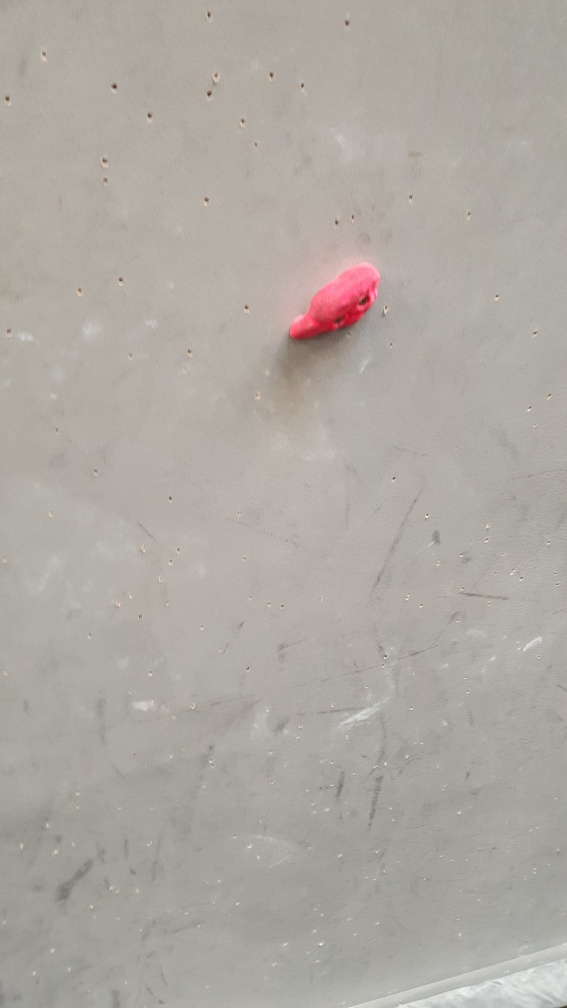Jug: (286, 260, 381, 343)
